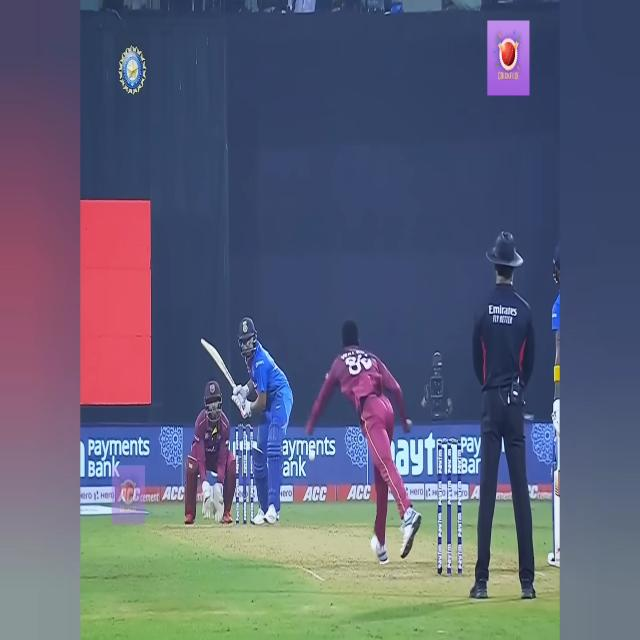partially_visible: (387, 440, 463, 477)
